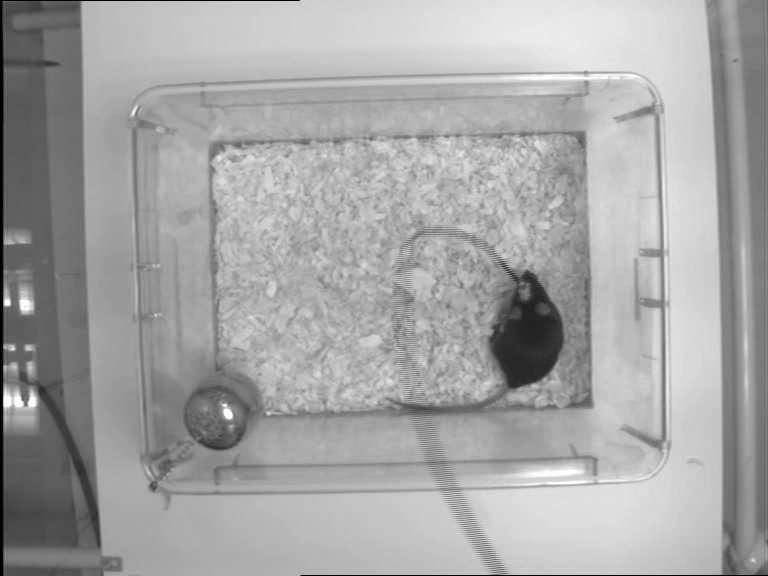mice: (386, 269, 565, 408)
